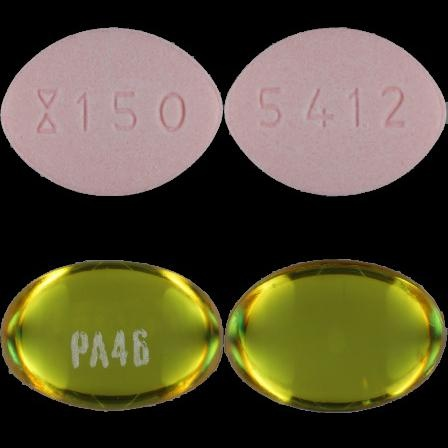63629-2653: (0, 0, 224, 224)
